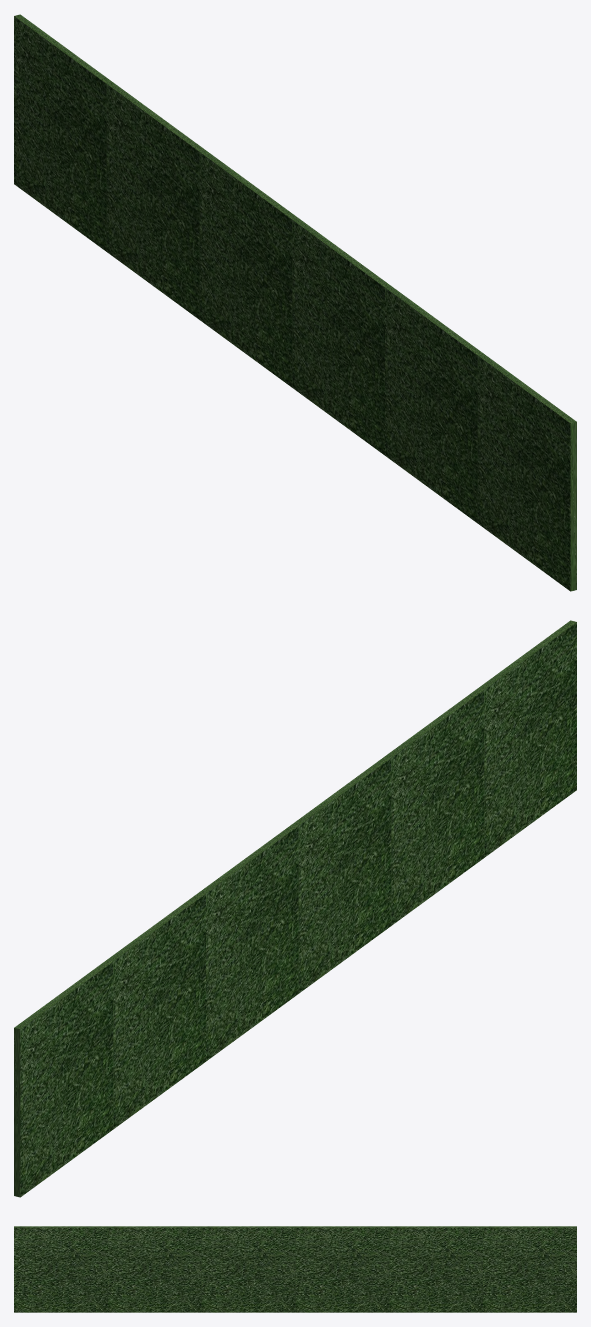
3 renders of one model, top to bottom at view 1: azimuth 30°, elevation 25°; view 2: azimuth 150°, elevation 25°; view 3: azimuth 270°, elevation 25°, orthographic. The views are drawn at different scales.
Parts seen in each view (by area): view 1: PC212_Cube.214, PC214_Cube.216, PC213_Cube.215, PC210_Cube.212, PC211_Cube.213, PC215_Cube.217; view 2: PC215_Cube.217, PC211_Cube.213, PC210_Cube.212, PC213_Cube.215, PC214_Cube.216, PC212_Cube.214; view 3: PC210_Cube.212, PC213_Cube.215, PC211_Cube.213, PC212_Cube.214, PC214_Cube.216, PC215_Cube.217.
Part boxes in pixels (x1,y1,x2,y2): PC212_Cube.214: (477,354,576,591); PC214_Cube.216: (106,82,205,319); PC213_Cube.215: (199,150,298,387); PC210_Cube.212: (292,218,390,455); PC211_Cube.213: (385,286,483,523); PC215_Cube.217: (14,14,112,251); PC215_Cube.217: (14,960,113,1197); PC211_Cube.213: (385,688,484,925); PC210_Cube.212: (292,756,391,993); PC213_Cube.215: (200,824,298,1061); PC214_Cube.216: (107,892,205,1129); PC212_Cube.214: (478,620,576,857); PC210_Cube.212: (201,1226,295,1312); PC213_Cube.215: (295,1226,389,1312); PC211_Cube.213: (108,1226,201,1312); PC212_Cube.214: (14,1226,107,1312); PC214_Cube.216: (389,1226,482,1312); PC215_Cube.217: (483,1226,576,1312).
Size of the model in its own units: 0.4 by 10 by 60.
Materials: 1 (1 with a texture image).
